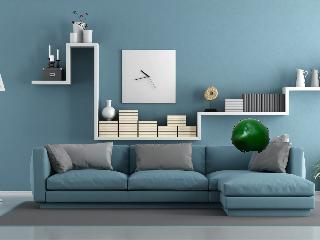lime: (229, 117, 271, 155)
